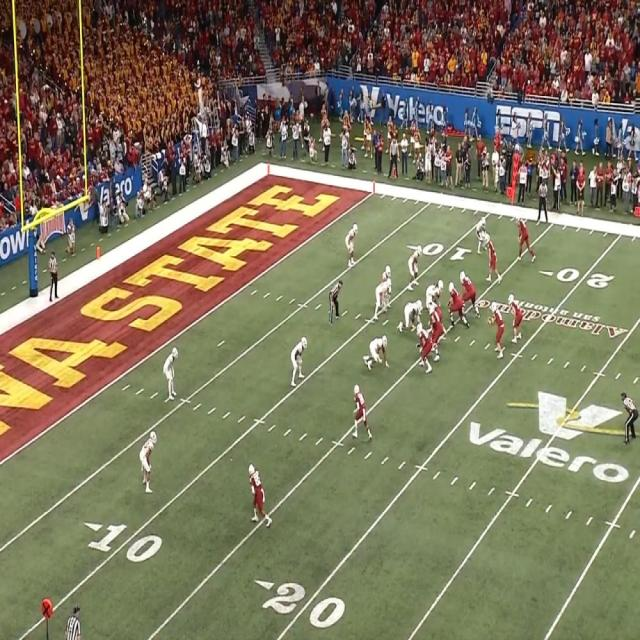center: (427, 294, 443, 324)
db: (138, 430, 156, 494), (290, 336, 308, 382), (166, 346, 178, 398), (346, 224, 358, 266), (475, 218, 485, 252)
lb: (408, 248, 426, 284), (382, 261, 392, 309), (375, 281, 389, 311)
qb: (491, 302, 504, 357)
skill: (249, 464, 272, 527), (352, 380, 371, 439), (515, 214, 535, 262), (507, 294, 527, 342), (484, 234, 501, 280)
